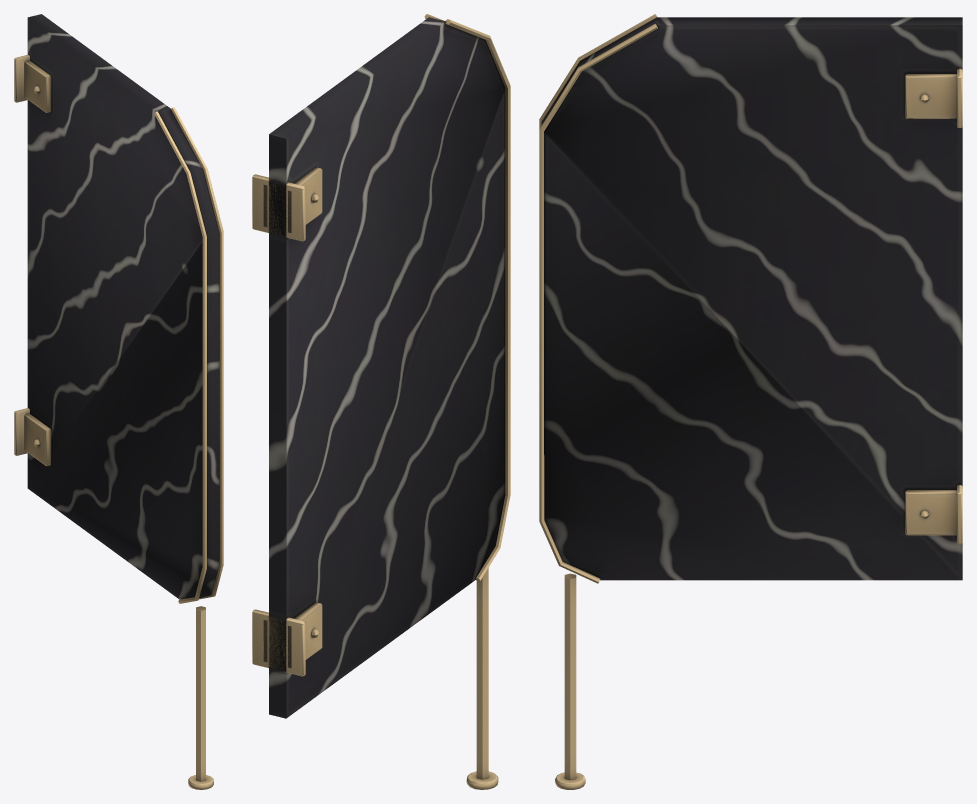
Rendered from UrinalDivider.fbx.
3 views of the same model, side by side, from view 1: azimuth 30°, elevation 25°; view 2: azimuth 150°, elevation 25°; view 3: azimuth 270°, elevation 25° (orthographic). The views are drawn at different scales.
Parts seen in each view (by area): view 1: UrinalDivider; view 2: UrinalDivider; view 3: UrinalDivider.
Part boxes in pixels (x1,y1,x2,y2): UrinalDivider: [14, 14, 223, 789]; UrinalDivider: [252, 14, 510, 789]; UrinalDivider: [539, 14, 962, 789].
Bounding box in the file's own units: 30 × 441 × 221.
